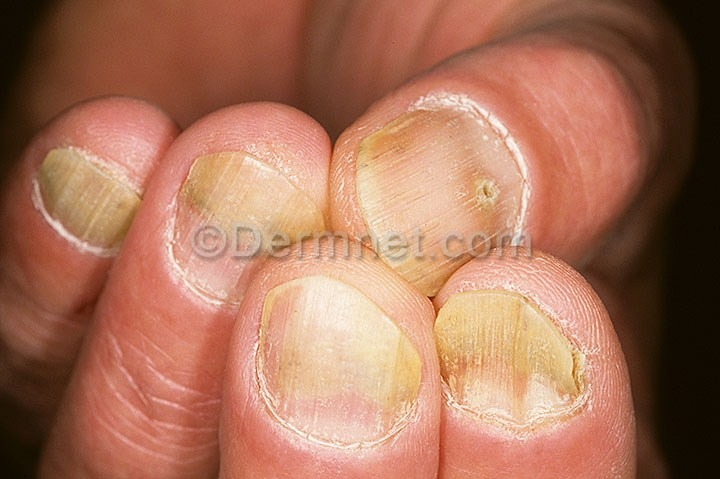Psoriasis: (333, 97, 528, 247), (234, 289, 451, 411), (153, 136, 331, 252), (439, 273, 593, 392), (25, 143, 139, 250)
